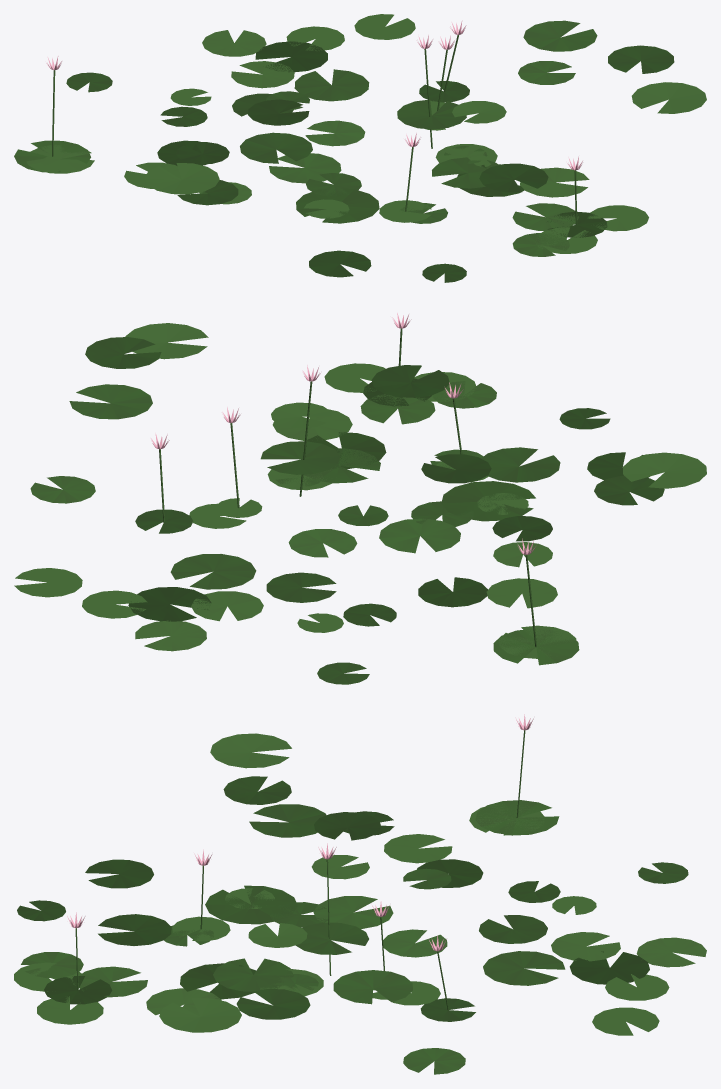
The model's file is lotus_1.glb.
3 views of the same model, one above another, from view 1: azimuth 30°, elevation 25°; view 2: azimuth 150°, elevation 25°; view 3: azimuth 270°, elevation 25° (orthographic). The views are drawn at different scales.
Parts seen in each view (by area): view 1: lotus_1; view 2: lotus_1; view 3: lotus_1.
Part boxes in pixels (x1,y1,x2,y2): lotus_1: [14, 14, 706, 282]; lotus_1: [14, 313, 706, 684]; lotus_1: [14, 714, 706, 1074].
Size of the model in its own units: 5.84 by 1.18 by 5.95.
